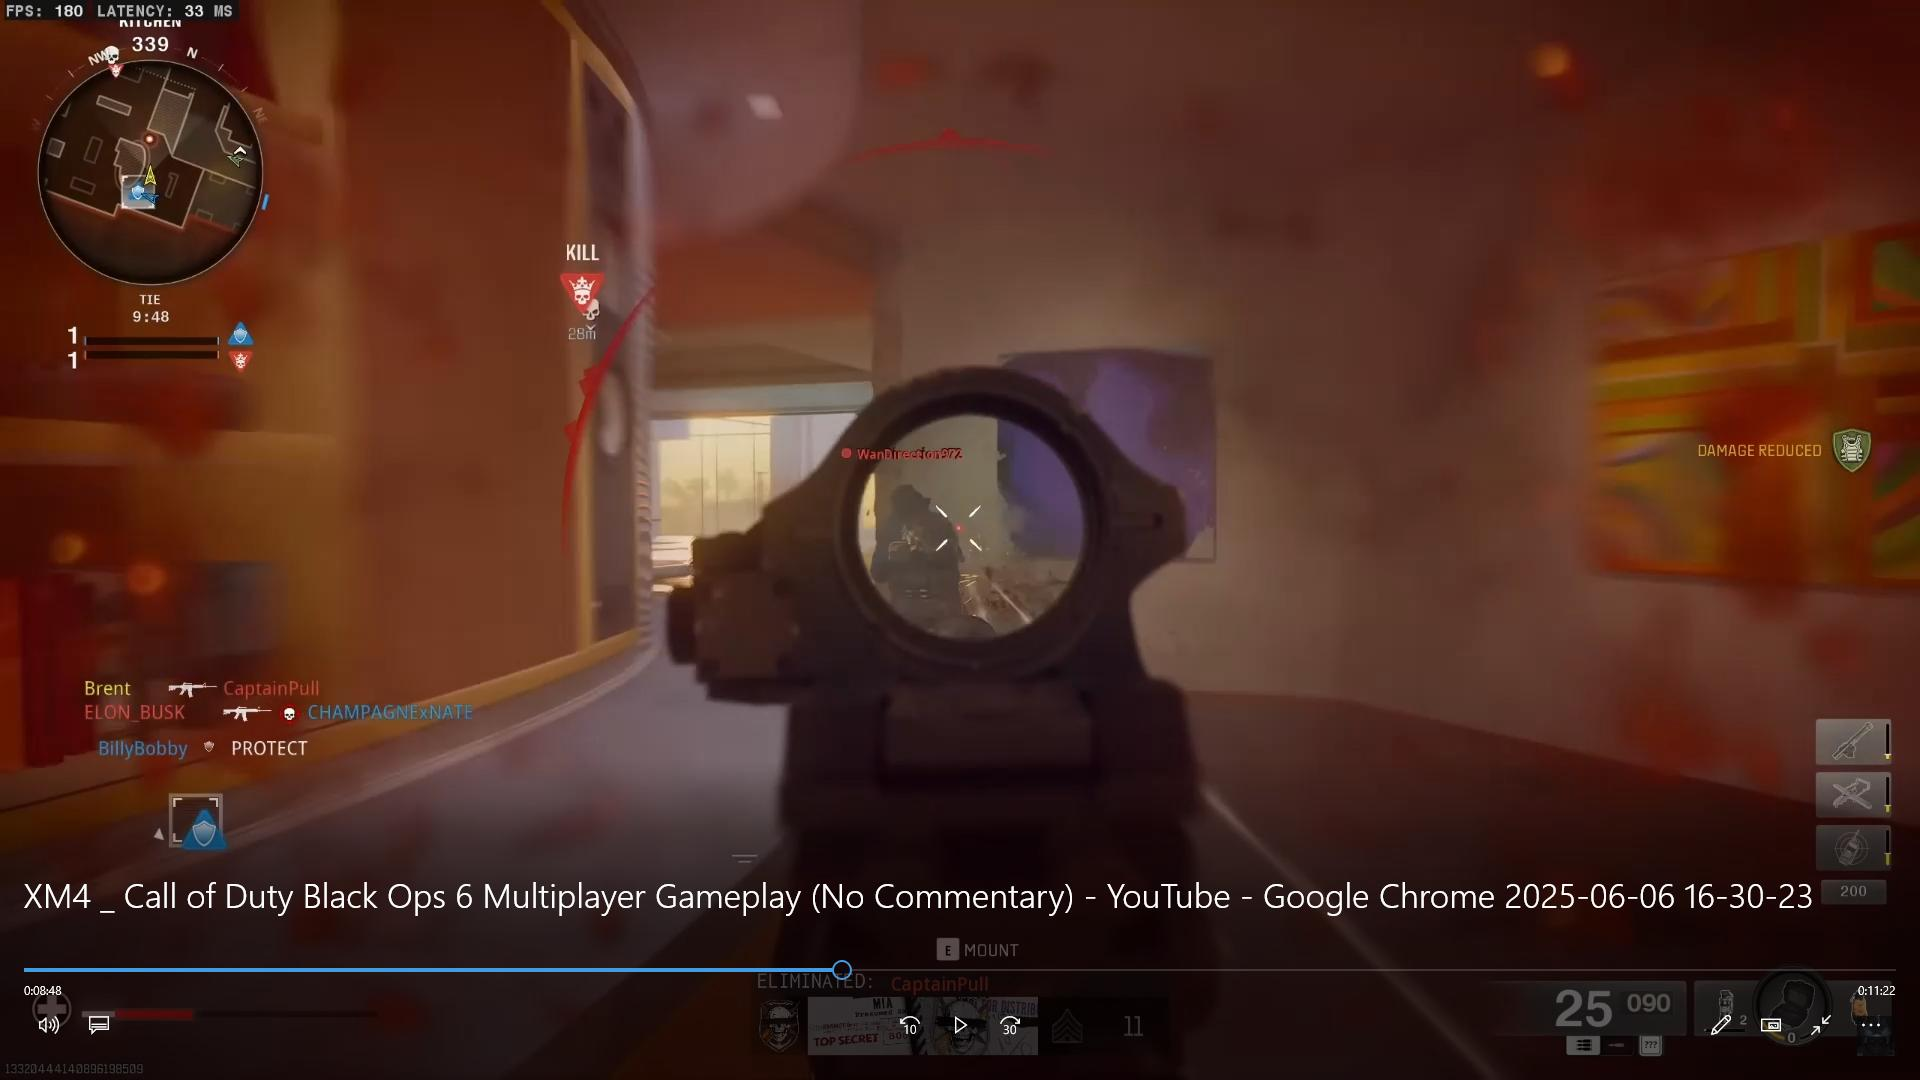Enemy: (860, 444, 975, 611)
